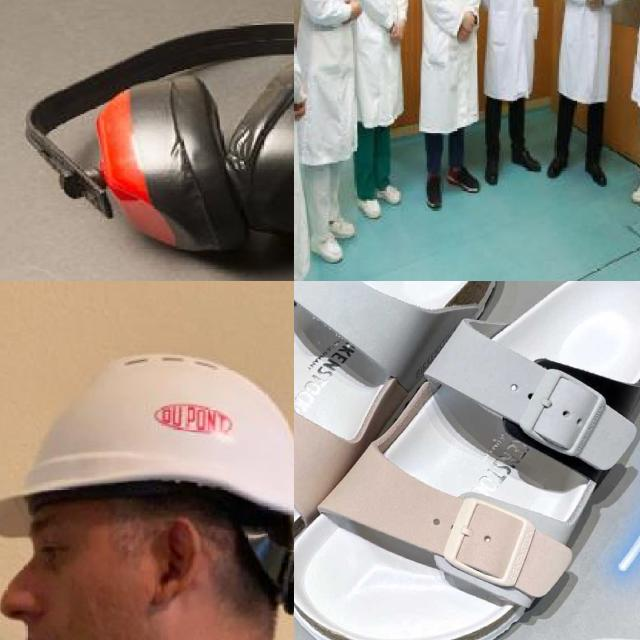Ear-protection: (25, 29, 294, 212)
No_Ear-Protection: (150, 514, 200, 609)
Sandals: (294, 281, 640, 640)
hand_noglove: (294, 83, 310, 122), (391, 19, 407, 44), (346, 0, 362, 20), (464, 10, 476, 32), (457, 24, 470, 42), (590, 0, 604, 11)
person: (294, 0, 365, 273), (419, 0, 483, 210), (557, 0, 626, 194), (353, 0, 410, 222), (487, 0, 547, 187)
shoes: (306, 228, 348, 267), (315, 208, 362, 242), (418, 168, 451, 210), (508, 144, 544, 182), (443, 162, 483, 196), (581, 152, 613, 190), (371, 175, 407, 208), (354, 190, 387, 225), (544, 145, 570, 181), (484, 147, 504, 193), (633, 172, 640, 206)
